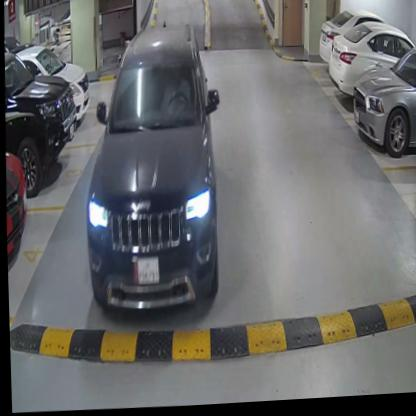np: (132, 254, 158, 286)
